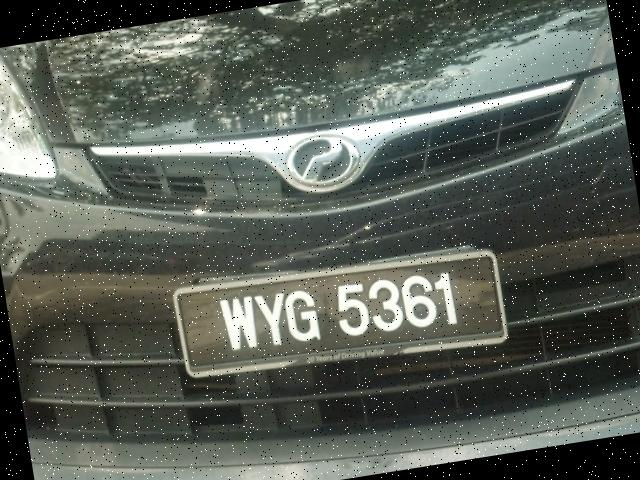License_Plate: (181, 249, 494, 387)
